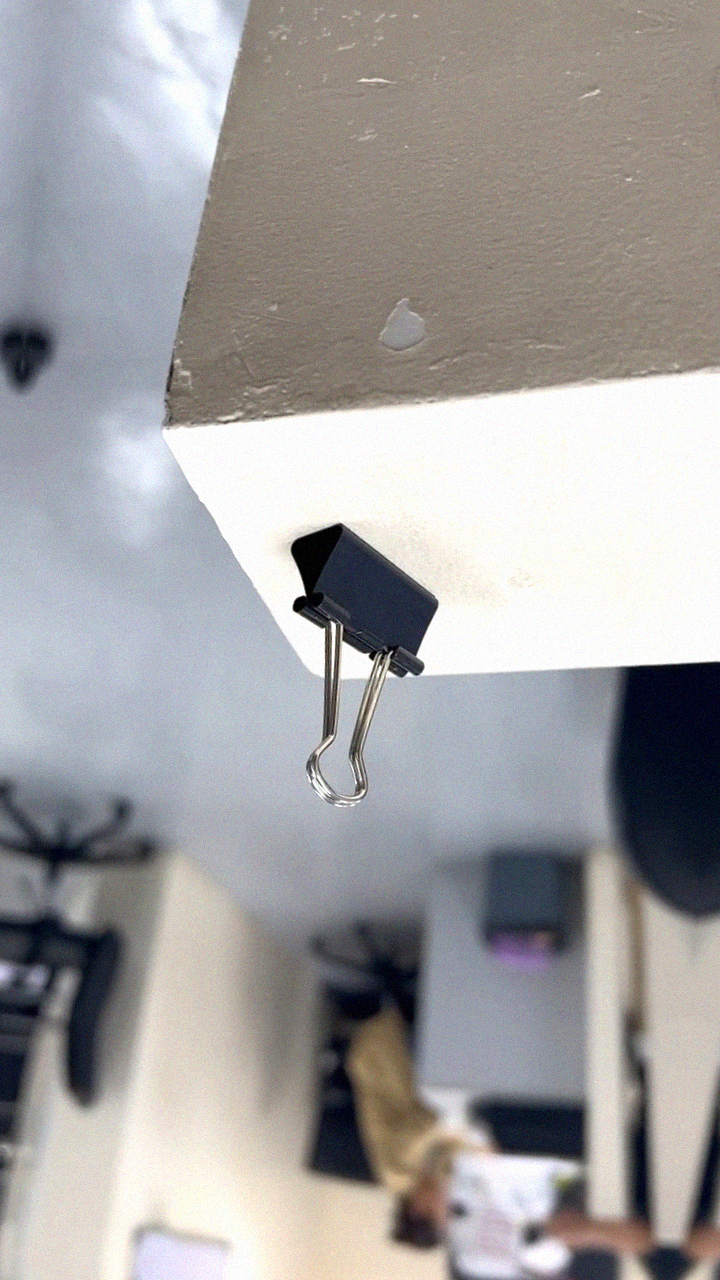kep_giay: (260, 514, 456, 816)
